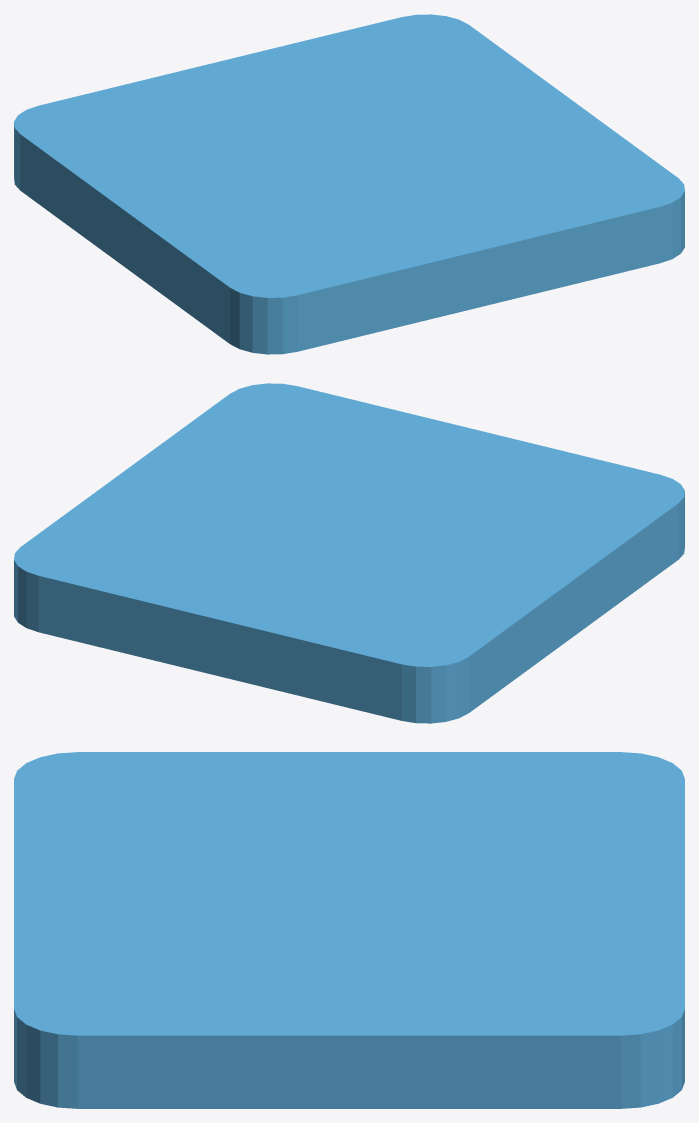
Rendered from bouncepad001.fbx.
3 renders of one model, top to bottom at view 1: azimuth 30°, elevation 25°; view 2: azimuth 150°, elevation 25°; view 3: azimuth 270°, elevation 25°, orthographic. The views are drawn at different scales.
Parts seen in each view (by area): view 1: Cube; view 2: Cube; view 3: Cube.
Boxes of the visible parts, x1=… form: Cube: x1=14, y1=14, x2=684, y2=354; Cube: x1=14, y1=383, x2=684, y2=723; Cube: x1=14, y1=752, x2=684, y2=1108.
Bounding box in the file's own units: 469 × 56.5 × 469.
